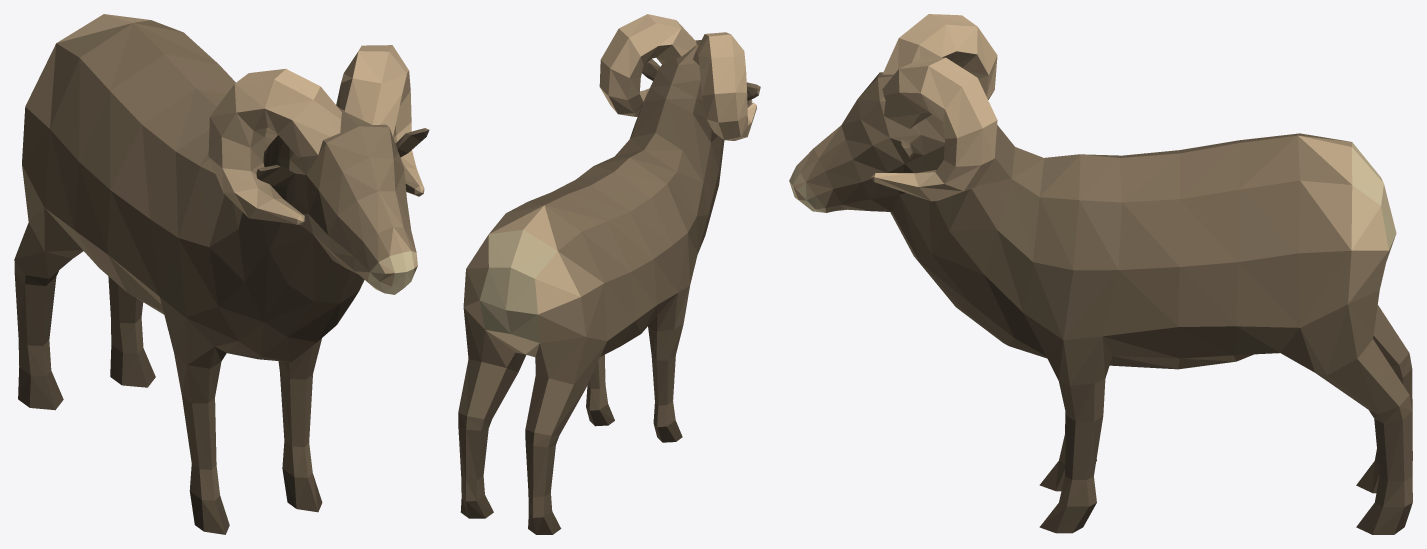
File: barbary.glb
3 renders of one model, left to right at view 1: azimuth 30°, elevation 25°; view 2: azimuth 150°, elevation 25°; view 3: azimuth 270°, elevation 25°, orthographic. The views are drawn at different scales.
Visible parts, largest first — view 1: zoo-barbary; view 2: zoo-barbary; view 3: zoo-barbary.
Part boxes in pixels (left/top/right/bottom): zoo-barbary: left=14, top=14, right=429, bottom=534; zoo-barbary: left=458, top=14, right=760, bottom=534; zoo-barbary: left=789, top=14, right=1412, bottom=534.
Size of the model in its own units: 0.457 by 1.16 by 1.4.
